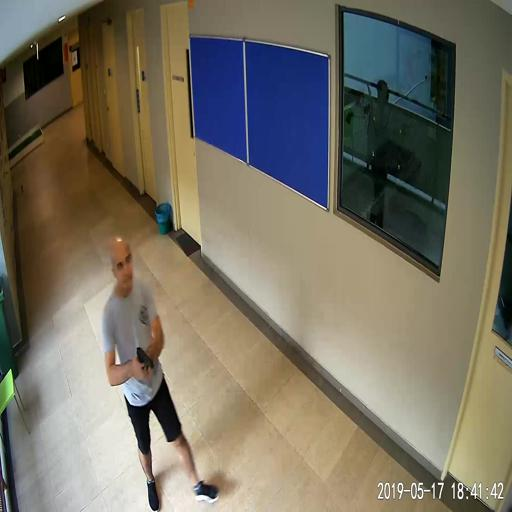pistol: (136, 347, 153, 378)
